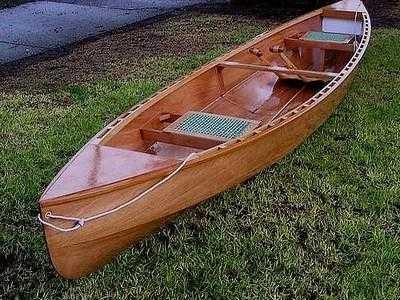kayak: (36, 0, 372, 283)
